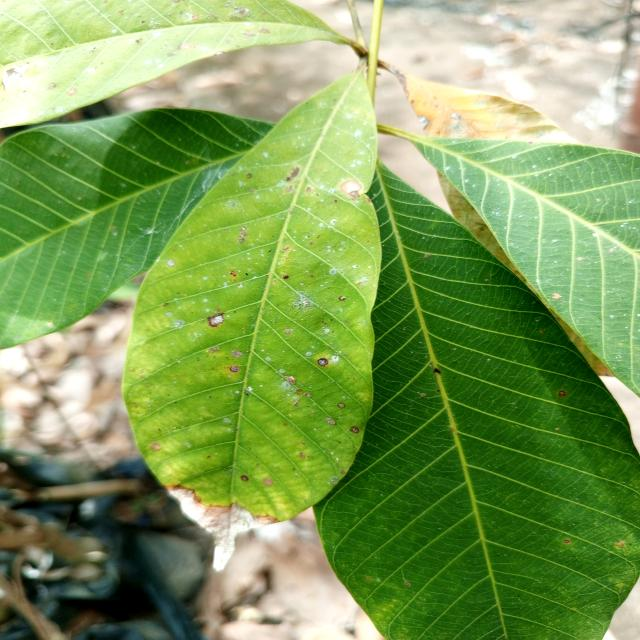Colletotrichum: (317, 358, 329, 367), (349, 426, 360, 434), (230, 365, 240, 372), (336, 402, 346, 409), (338, 296, 345, 300)
Leaf-Blight: (165, 484, 282, 571), (341, 178, 363, 198)
